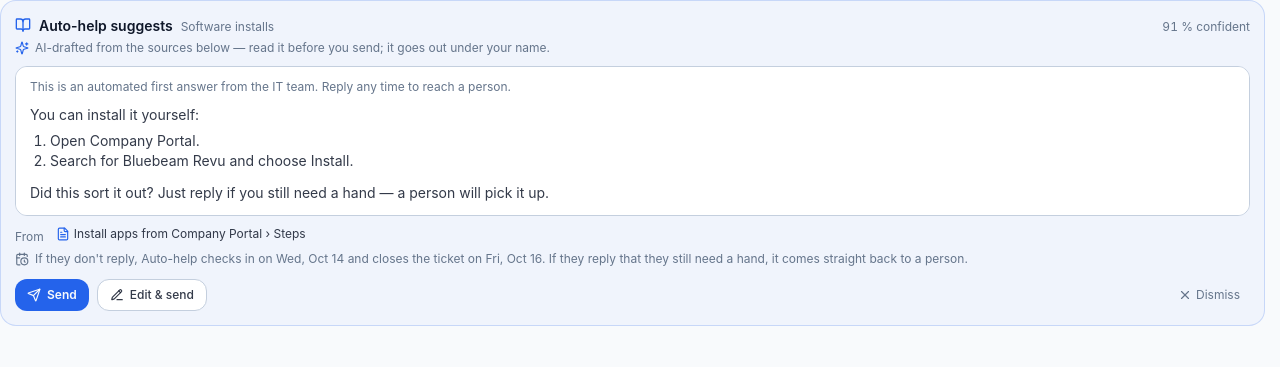
Test: Auto-help suggestion card › a failed send keeps the card and says why
What coordinates should you click on to do the following:
click the button "Send"
I would click on:
 (52, 295)
Its box is top-left (15, 279), bottom-right (89, 311).
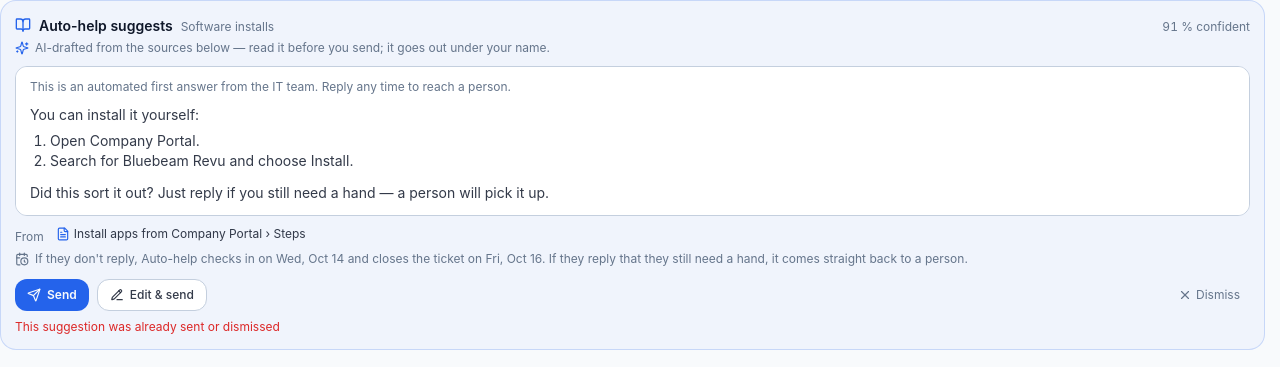
Expected: the message shows "already sent or dismissed", top-left (15, 319), bottom-right (280, 334)
